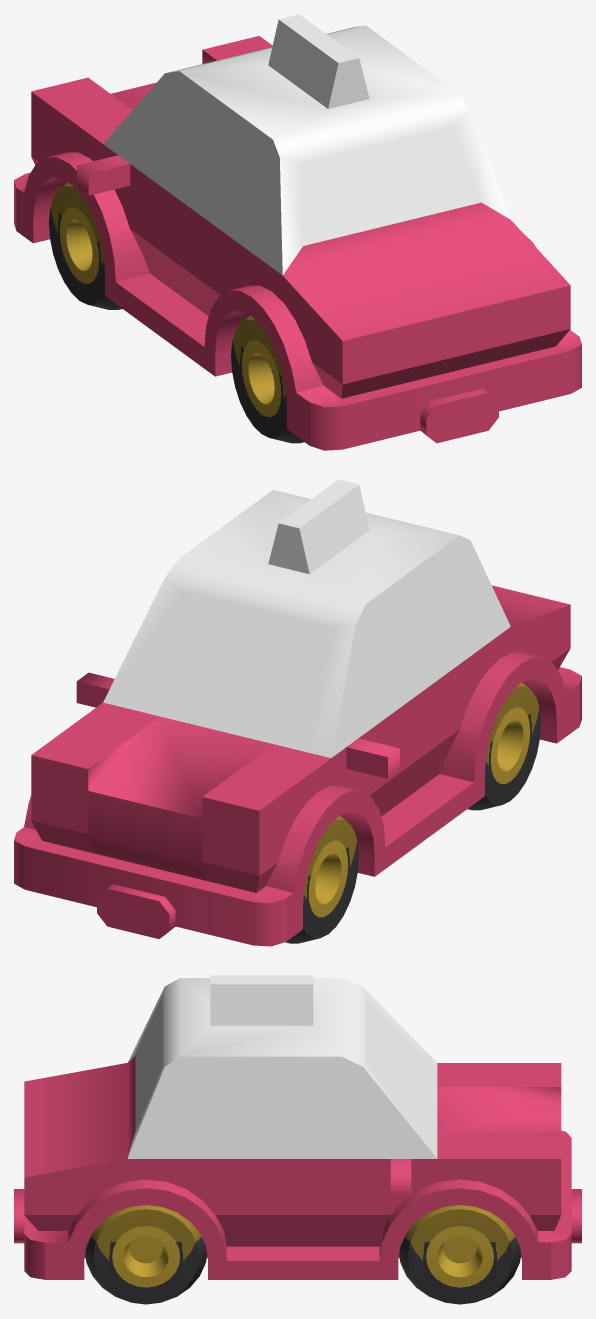
The model's file is taxi.glb.
The picture shows the model from 3 angles, top to bottom: view 1: azimuth 30°, elevation 25°; view 2: azimuth 150°, elevation 25°; view 3: azimuth 270°, elevation 25°; orthographic projection. The views are drawn at different scales.
Visible parts, largest first — view 1: body, wheel-back-left, wheel-front-left; view 2: body, wheel-front-left, wheel-back-left; view 3: body, wheel-back-right, wheel-front-right.
Boxes of the visible parts, x1,y1,x2,y2 form: body: [14, 14, 581, 450]; wheel-back-left: [231, 315, 304, 443]; wheel-front-left: [49, 182, 122, 309]; body: [14, 479, 581, 946]; wheel-front-left: [285, 815, 358, 943]; wheel-back-left: [467, 682, 540, 810]; body: [14, 975, 581, 1279]; wheel-back-right: [85, 1205, 207, 1304]; wheel-front-right: [399, 1205, 520, 1304].
Bounding box in the file's own units: 1.66 × 1.66 × 3.05.
3 materials, 1 textured.
